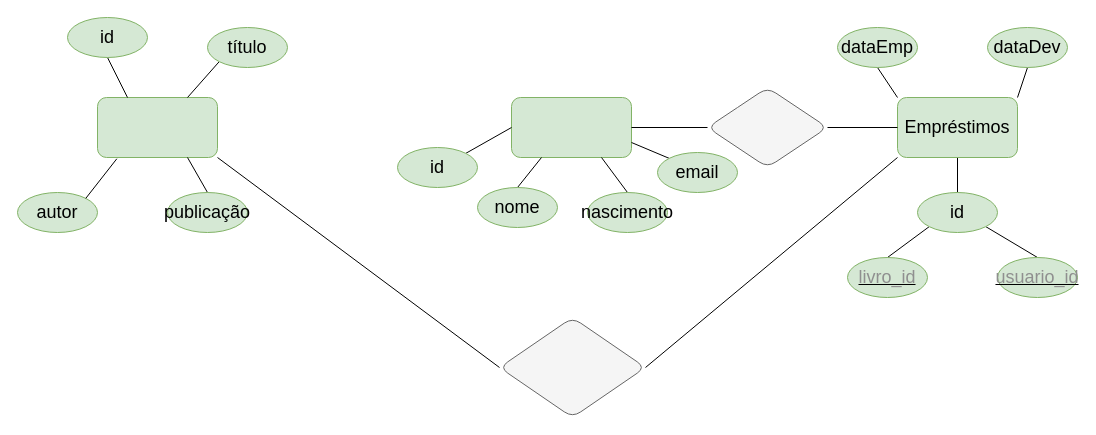
The diagram is 1096 pixels wide and 435 high, and some of its shapes have lost their labels. The shapes that lost their labels are listed below. From the top down, each one's centre as x and y in pixels, then its label:
(157,127): Livros
(571,127): Usuários
(767,127): Faz
(572,367): Livro vai para empréstimo
